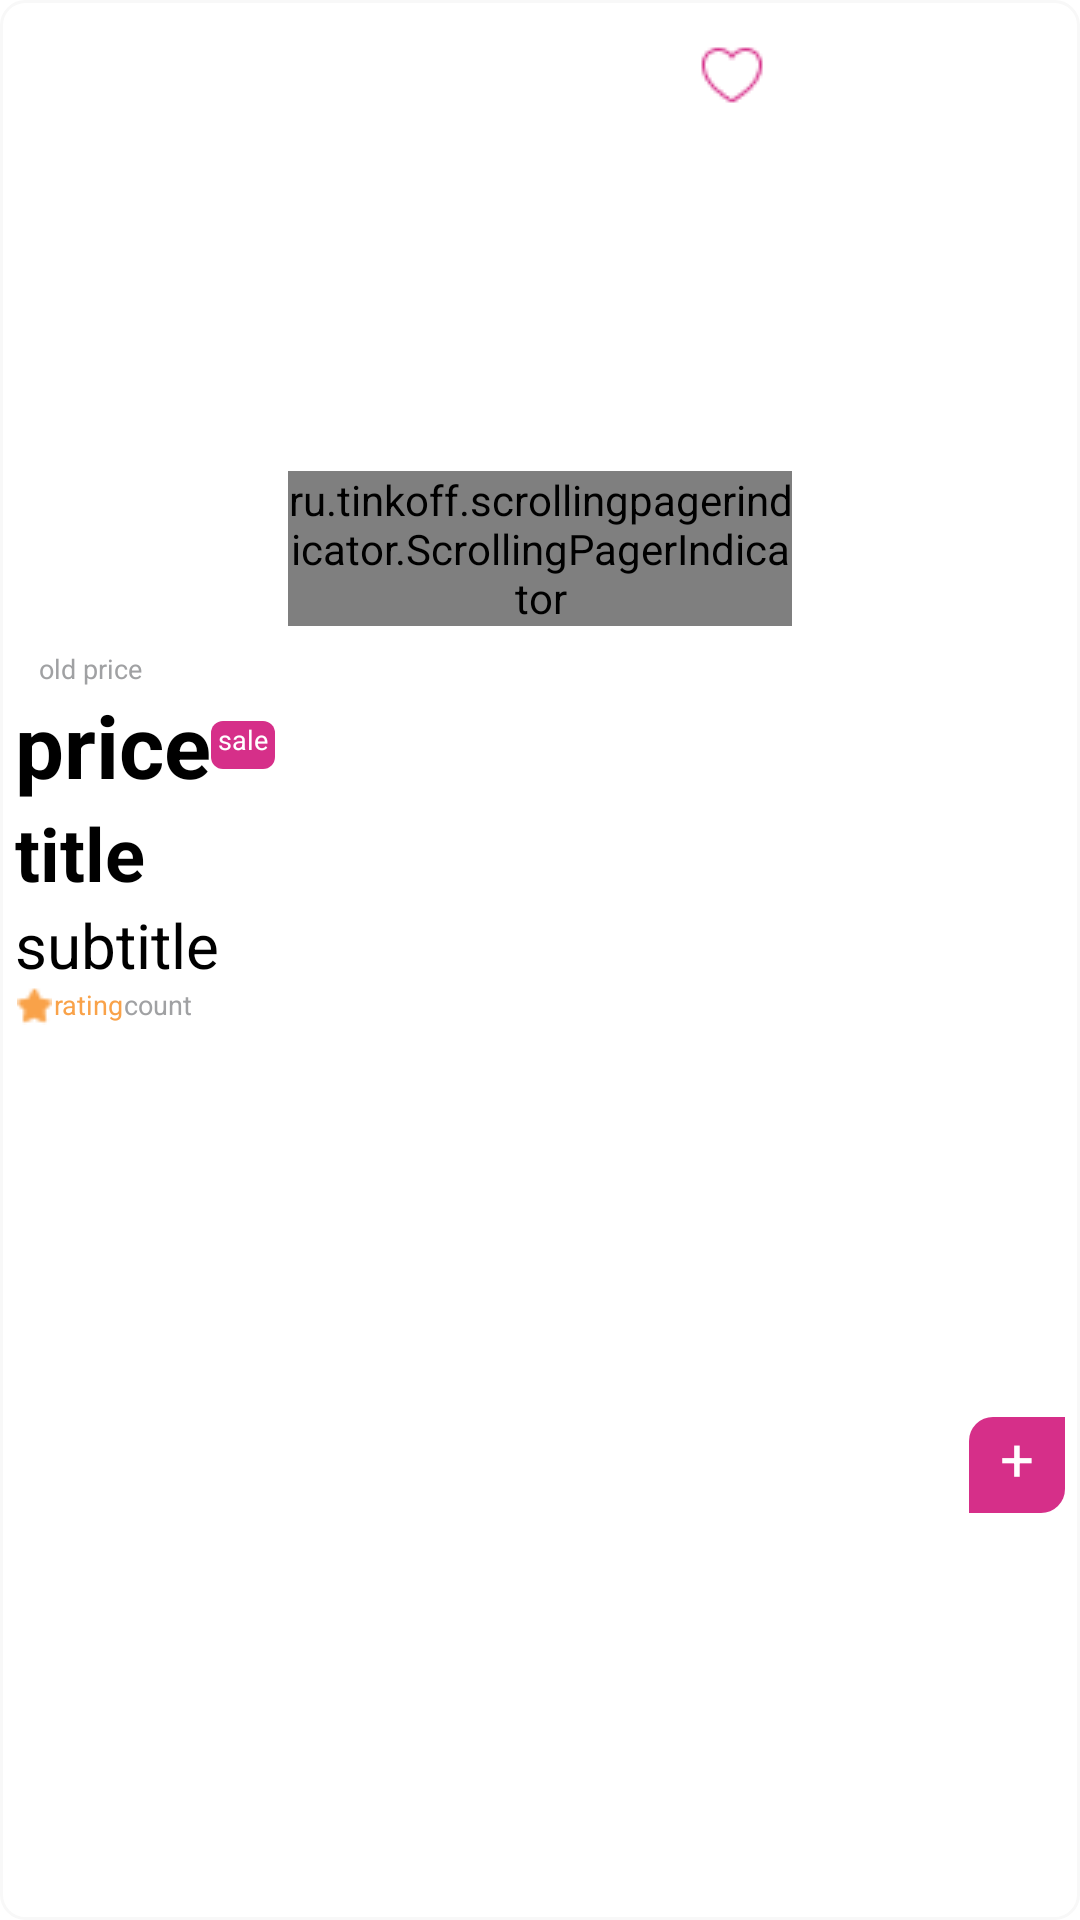

Where to tap for icons on this 1080 × 1920 app screen, as point (x, y):
is not favorite: point (732, 75)
star: point (34, 1005)
